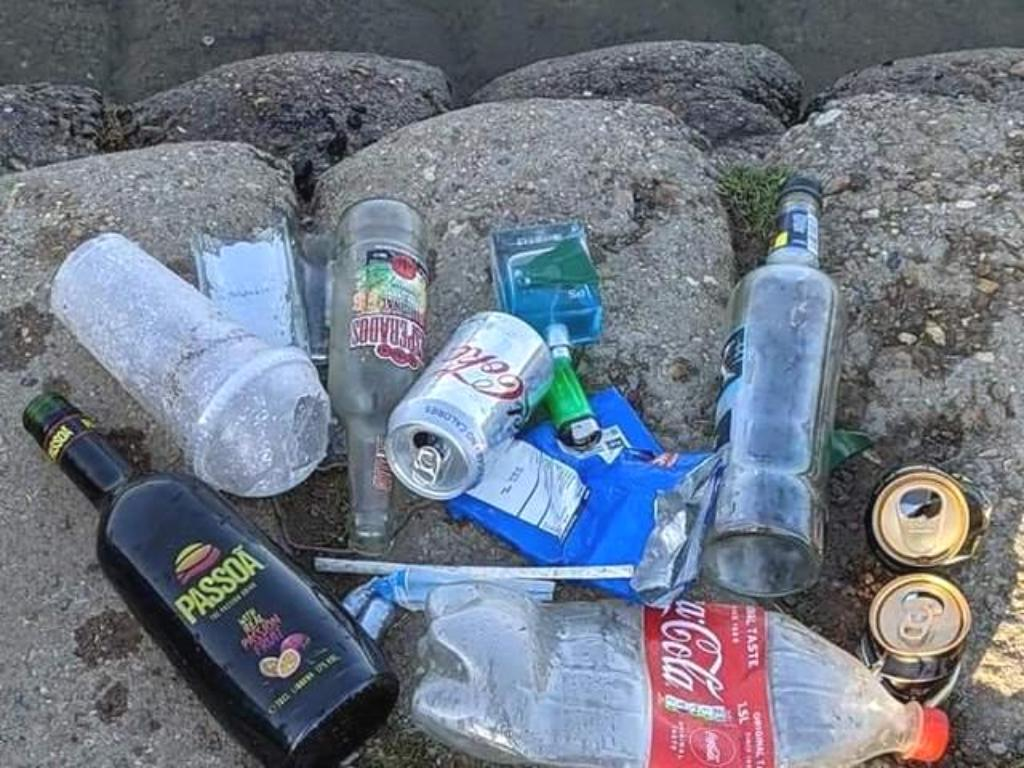garbage: (22, 392, 400, 766), (411, 582, 950, 766), (54, 234, 333, 491), (701, 176, 848, 598), (326, 197, 434, 557), (384, 312, 554, 501), (864, 461, 995, 576), (862, 573, 973, 706)
